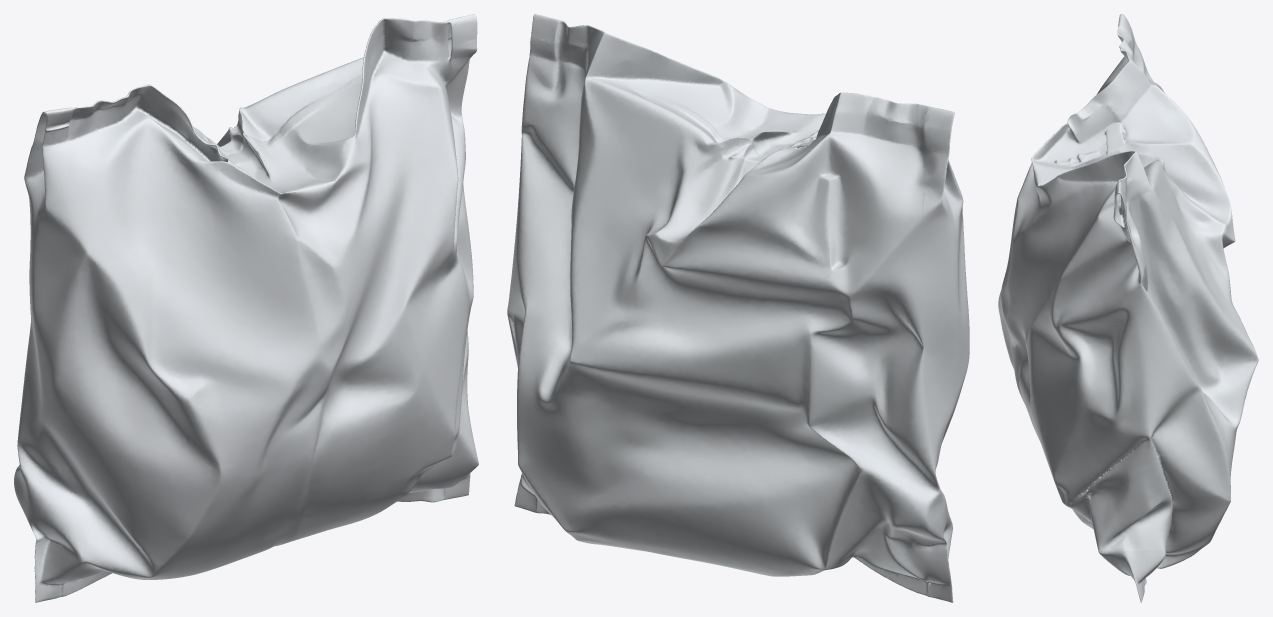
The model's file is oceano_sacola.glb.
The picture shows the model from 3 angles, left to right: view 1: azimuth 30°, elevation 25°; view 2: azimuth 150°, elevation 25°; view 3: azimuth 270°, elevation 25°; orthographic projection. The views are drawn at different scales.
Bounding box in the file's own units: 1.77 × 1.9 × 1.08.
1 material, 1 textured.
